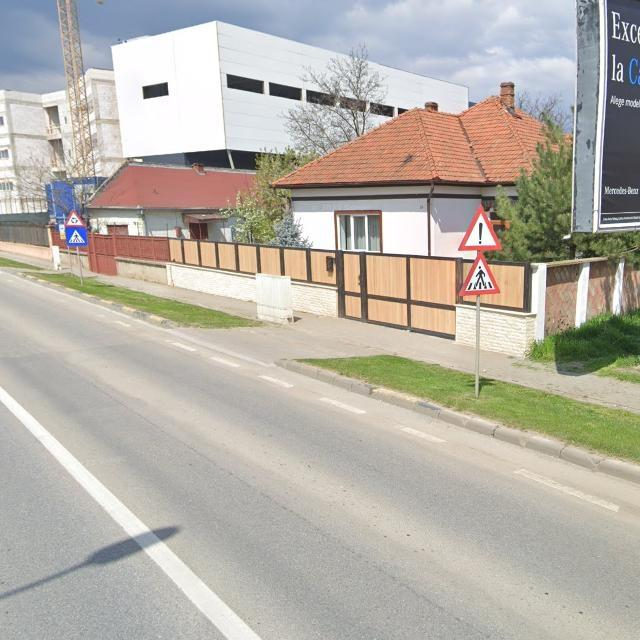info_crosswalk: (66, 226, 88, 247)
warn_crosswalk: (459, 251, 501, 296)
